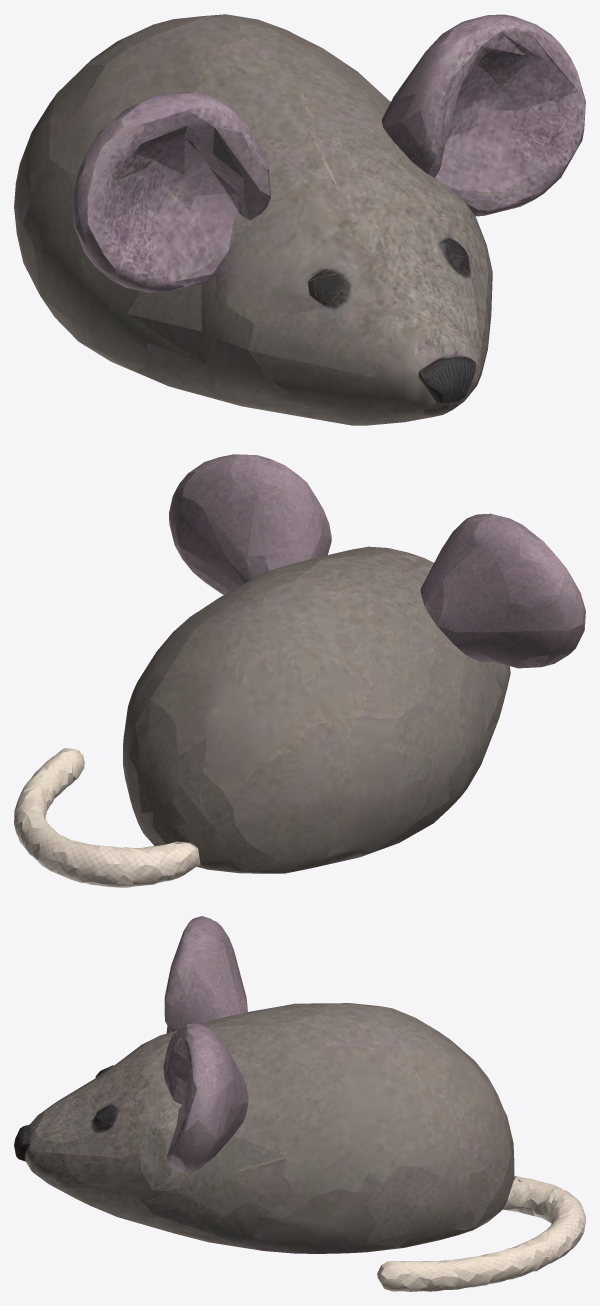
File: blue-toy-mouse-v1.glb
3 views of the same model, one above another, from view 1: azimuth 30°, elevation 25°; view 2: azimuth 150°, elevation 25°; view 3: azimuth 270°, elevation 25° (orthographic). The views are drawn at different scales.
Parts seen in each view (by area): view 1: Mesh_0.001; view 2: Mesh_0.001; view 3: Mesh_0.001.
Part boxes in pixels (x1,y1,x2,y2): Mesh_0.001: [14, 14, 585, 425]; Mesh_0.001: [14, 454, 585, 887]; Mesh_0.001: [14, 916, 585, 1291].
Size of the model in its own units: 0.1329 by 0.0801 by 0.18.
Materials: 1 (1 with a texture image).
